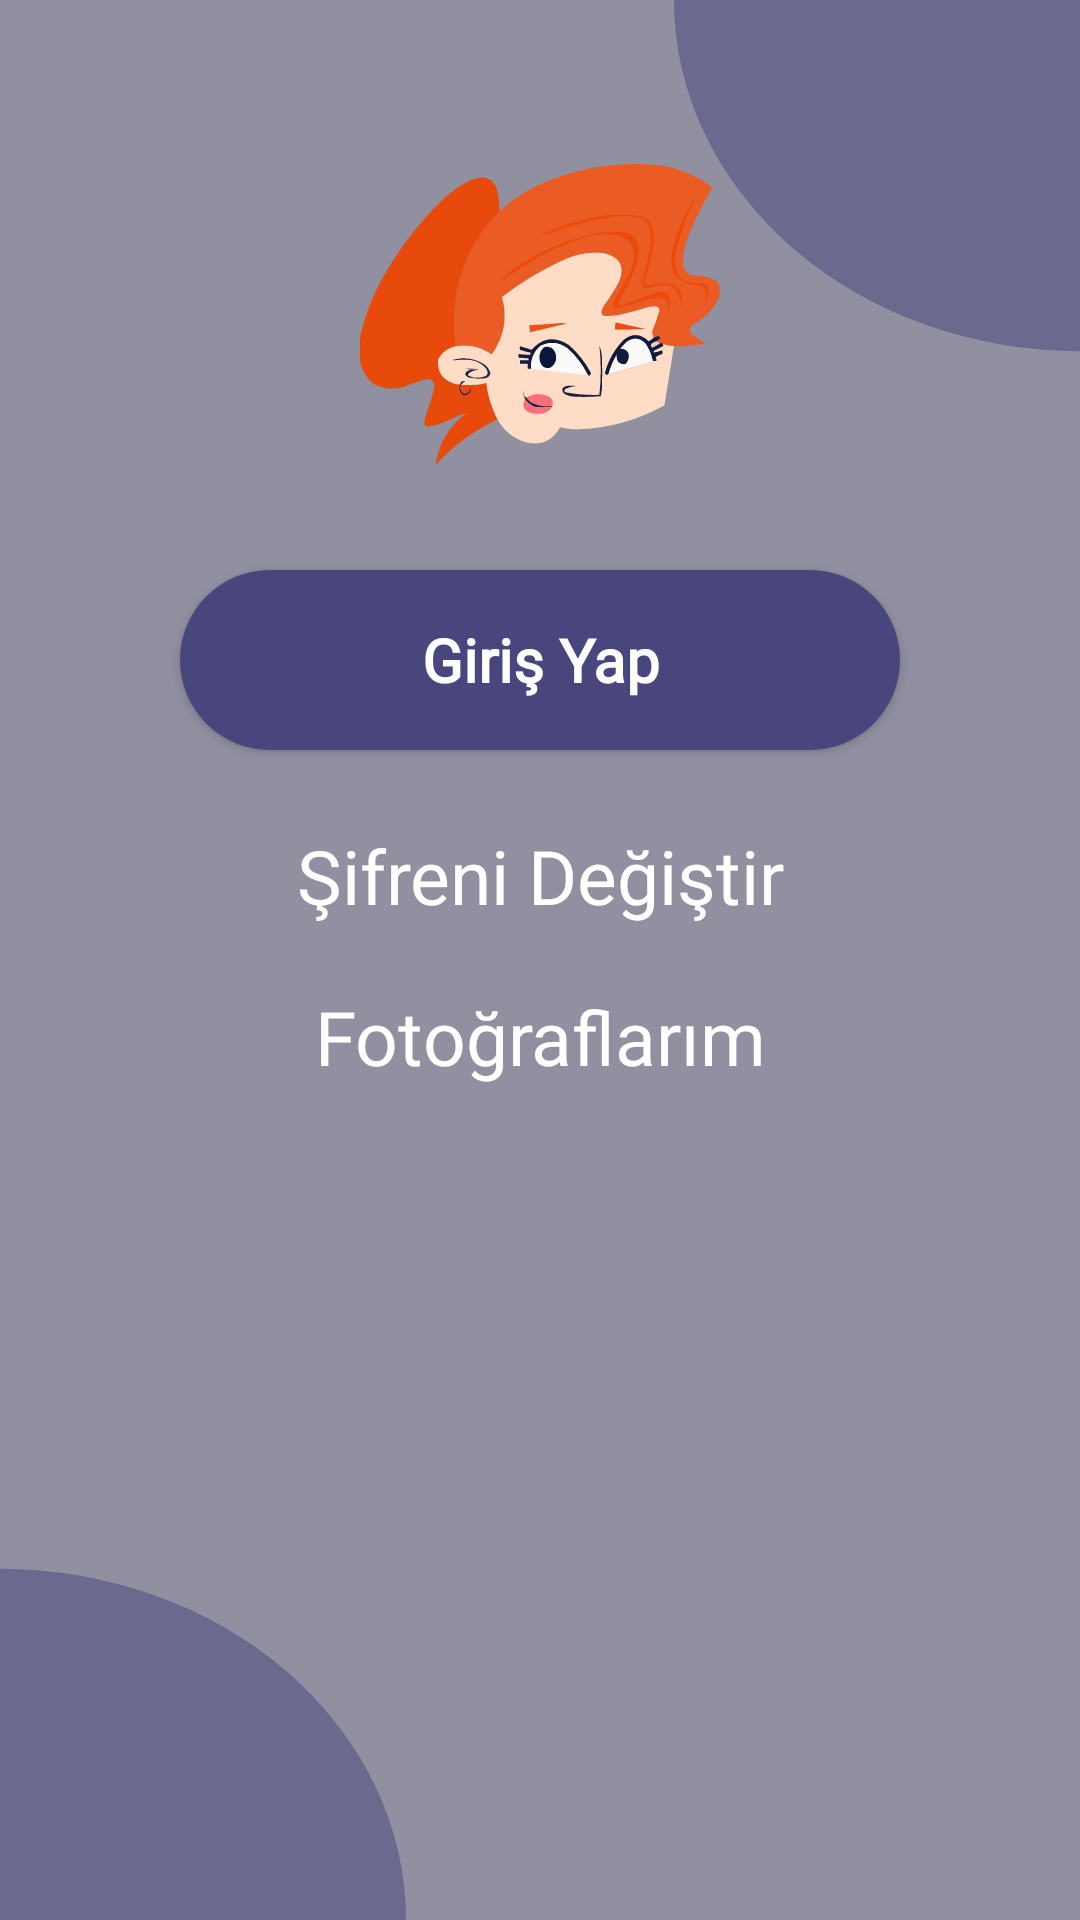

Icon click points for this 1080px x 1920px phone screenshot, format (x,y):
Avatar Resmi: (540,314)
